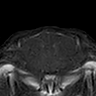Brain: (23, 34, 75, 72)
